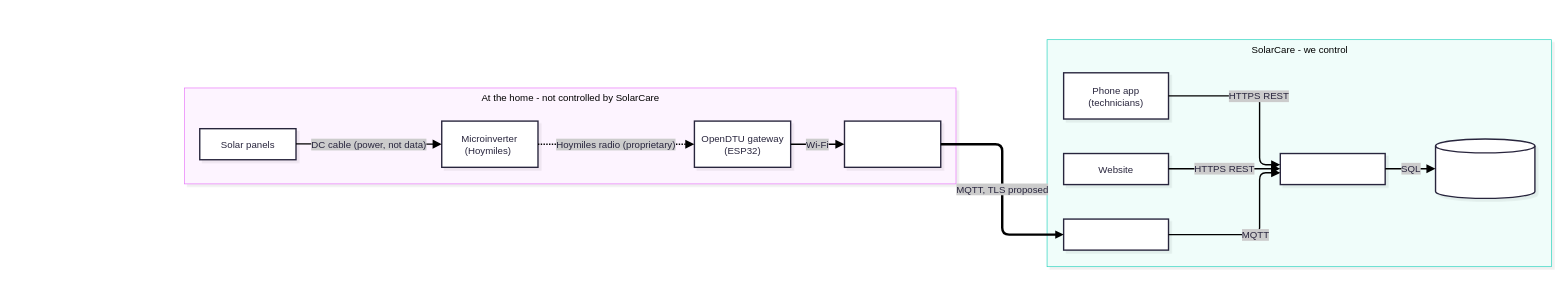
The diagram is 1566 pixels wide and 282 high, and some of its shapes have lost their labels. Here are the shapes that lost their labels. From the top down, the centre of each, then its label:
(893,145): Home router and internet
(1333,170): API
(1486,169): Database
(1117,235): MQTT broker
